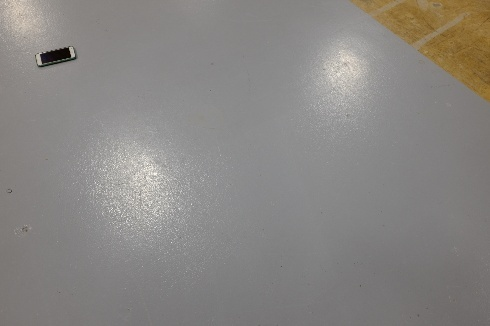phone: (34, 40, 83, 72)
